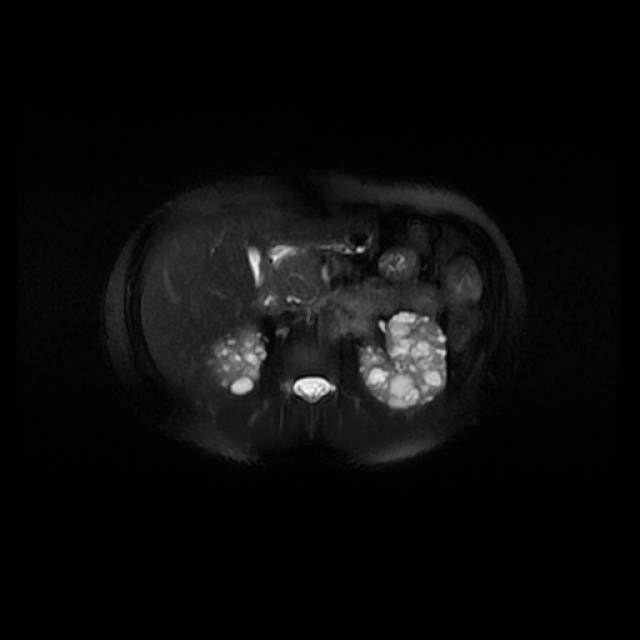sag: (213, 326, 267, 394)
sol: (360, 309, 449, 408)
